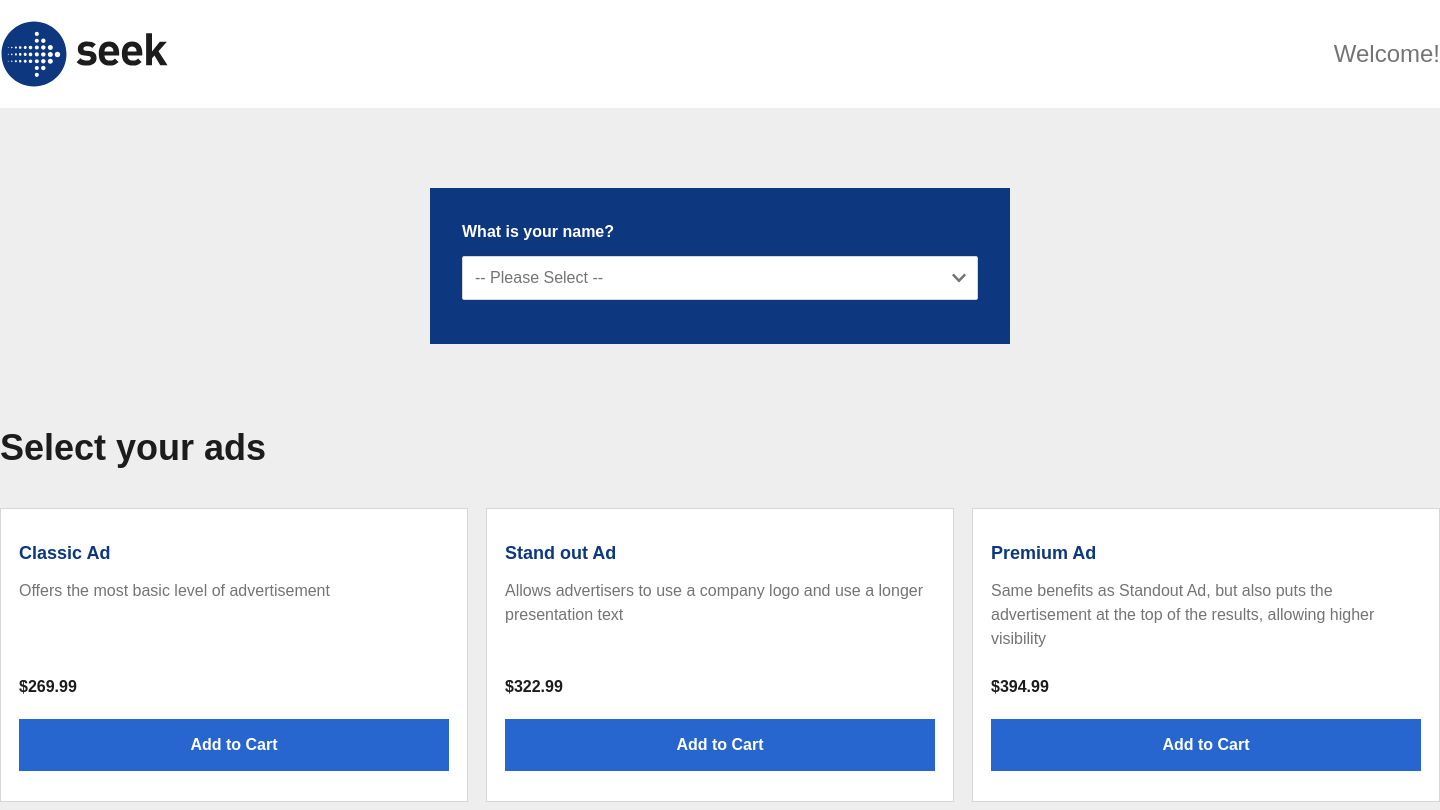
Test case: <App /> › Add item to cart › should display the cart total
Click the button with test id "standout-add-to-cart-btn" at (720, 745), box [505,719,935,771]
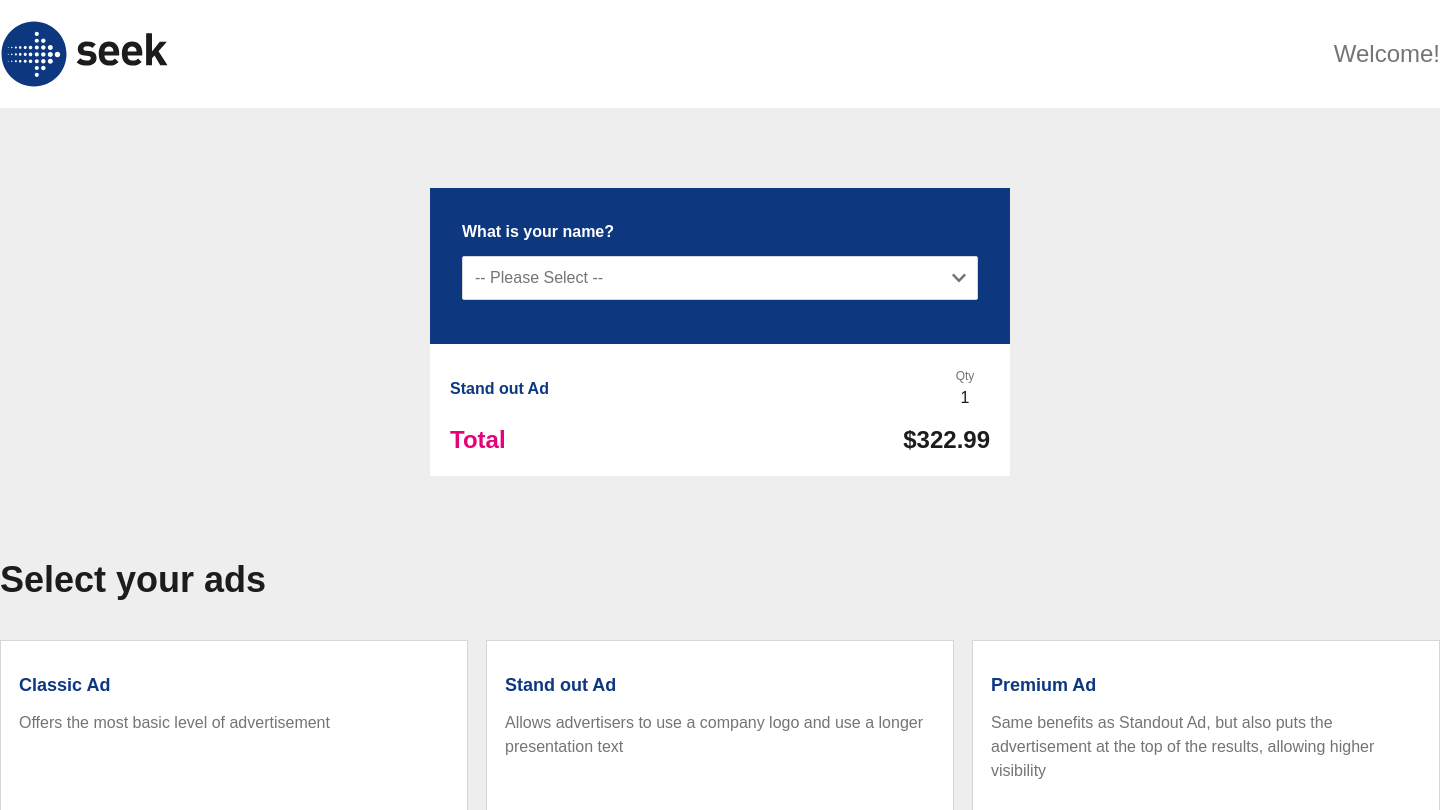
Check: the text with test id "cart-total" reads "$322.99", box [903,426,990,453]
